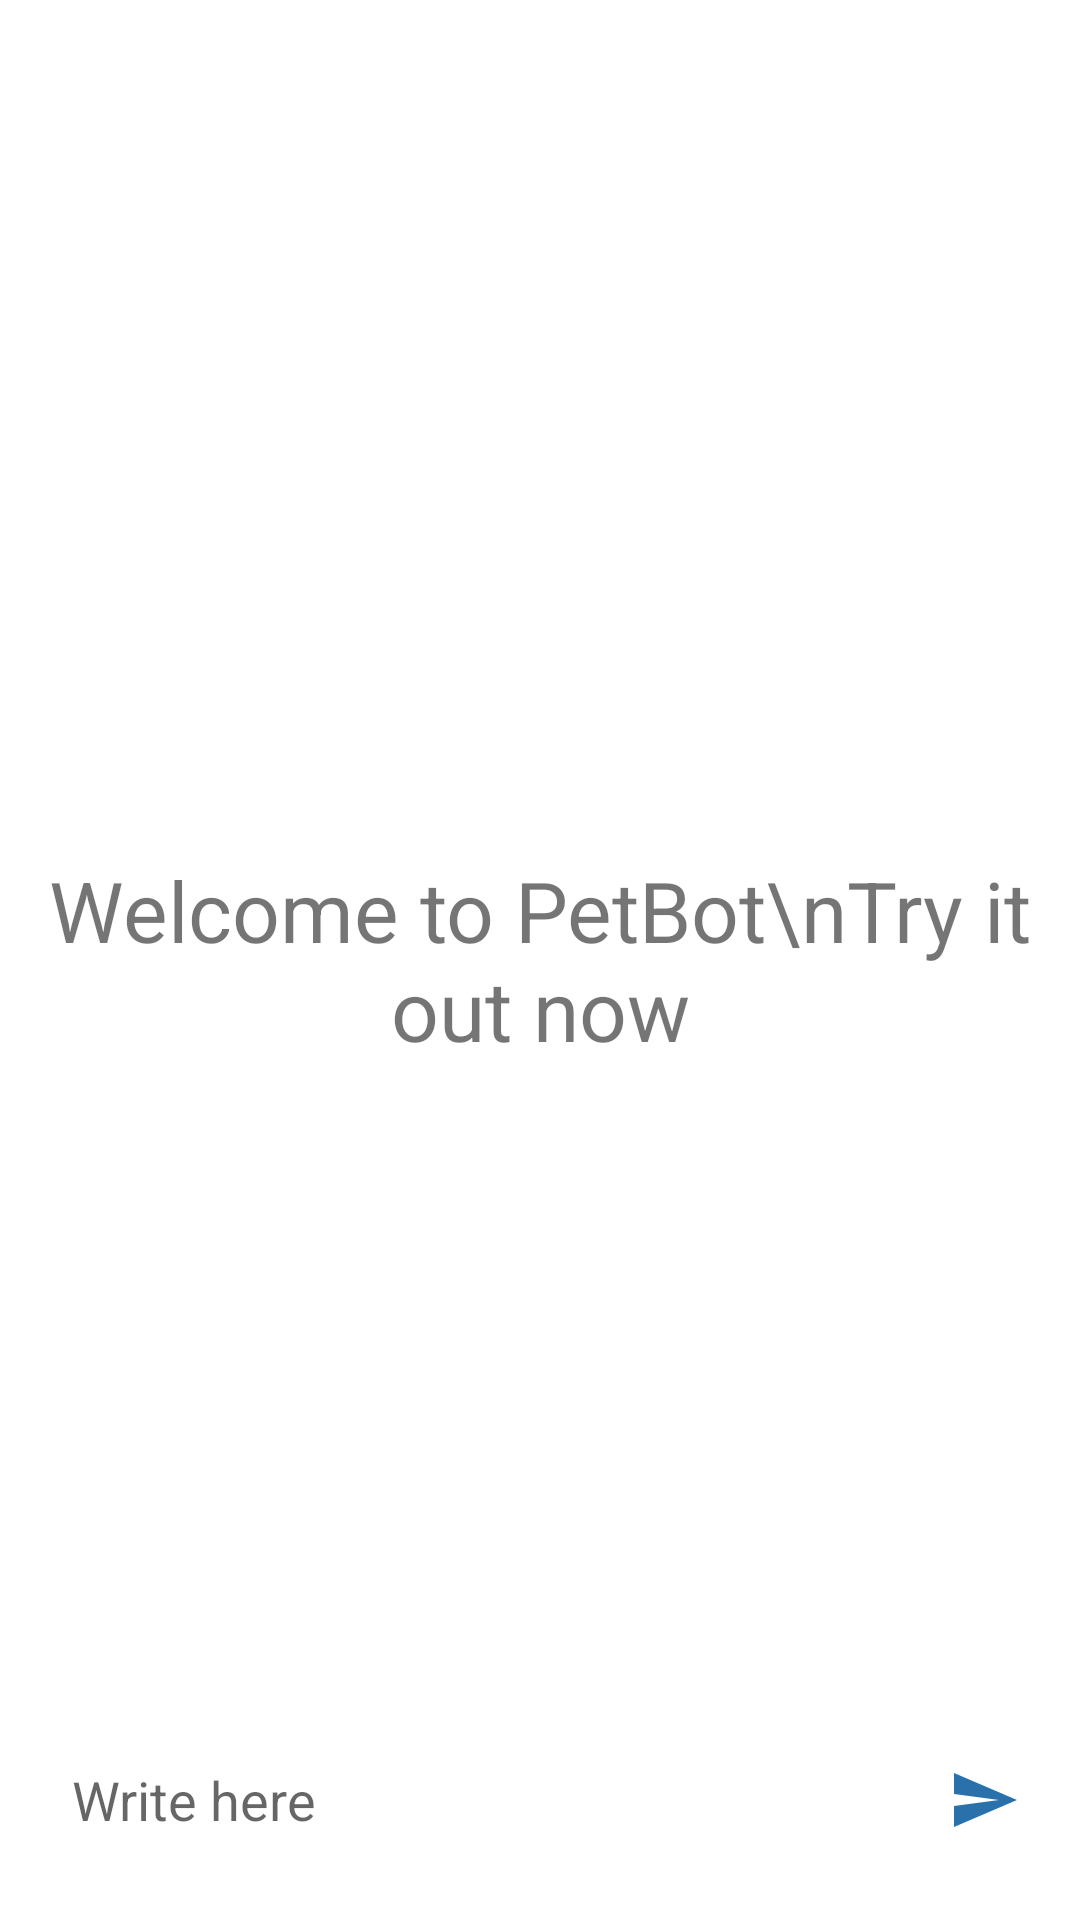

Icons on this 1080x1920 Android screen, each with the point to tap as point (x, y):
send: point (985, 1800)
